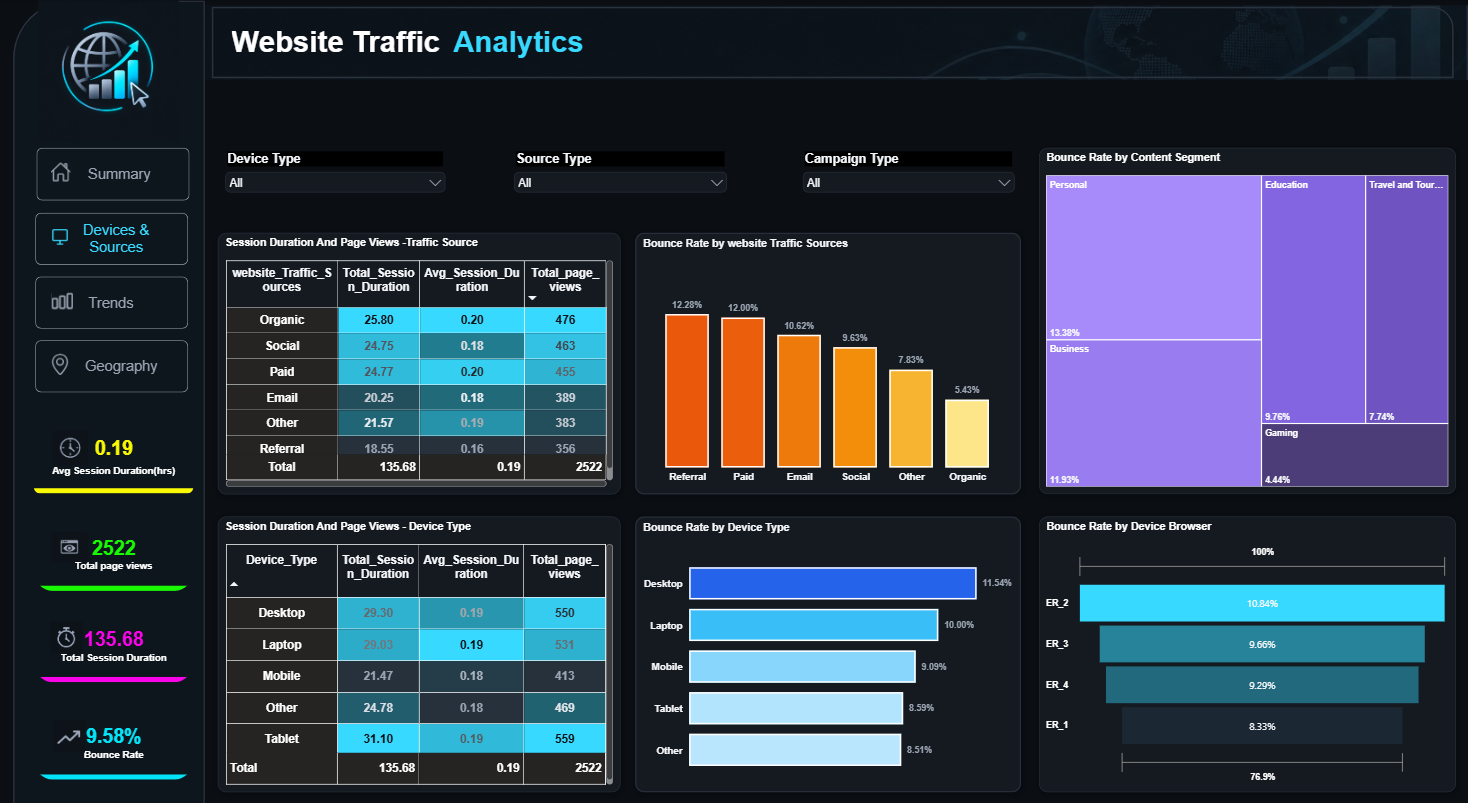

The dashboard page shown, as its layout file describes it:
{"tool":"powerbi","page":{"name":"Website Traffic by Devices & Sources","canvas":[2000,1100],"ordinal":1},"visuals":[{"type":"image","box":[86.6,9.2,1913.2,101.4],"z":0},{"type":"group","id":"g1","title":"Group 3","box":[30,558,251.5,132.3],"z":0,"group":"g6"},{"type":"tableEx","title":"Session Duration And Page Views -Traffic Source","fields":{"Values":["source_lookup.website_Traffic_Sources","#Measures.Total_Session_Duration","#Measures.Avg_Session_Duration","#Measures.Total_page_views"]},"box":[298.1,317.3,548.1,355.8],"z":1000},{"type":"group","id":"g2","title":"Group 4","box":[30,690.3,251.5,132.3],"z":1000,"group":"g6"},{"type":"tableEx","title":"Session Duration And Page Views - Device Type","fields":{"Values":["device_lookup.Device_Type","#Measures.Total_Session_Duration","#Measures.Avg_Session_Duration","#Measures.Total_page_views"]},"box":[298.1,703.8,548.1,375],"z":2000},{"type":"group","id":"g3","title":"Group 5","box":[30,815.3,251.5,132.3],"z":2000,"group":"g6"},{"type":"shape","box":[17.4,0,265.3,1100.4],"z":3000},{"type":"group","id":"g4","title":"Group 6","box":[30,947.5,251.5,132.3],"z":3000,"group":"g6"},{"type":"funnel","title":"Bounce Rate by Device Browser","fields":{"Category":["device_lookup.Device_Browser"],"Y":["#Measures.Bounce_Rate"]},"box":[1415.4,703.8,567.3,375],"z":4000},{"type":"treemap","title":"Bounce Rate by Content Segment","fields":{"Group":["device_lookup.Content_Segment"],"Values":["#Measures.Bounce_Rate"]},"box":[1415.4,201.9,567.3,471.2],"z":5000},{"type":"slicer","fields":{"Values":["device_lookup.Device_Type"]},"box":[298.1,201.9,319.5,71],"z":6000},{"type":"slicer","fields":{"Values":["source_lookup.website_Traffic_Sources"]},"box":[690.4,201.9,310.1,71],"z":7000},{"type":"cardVisual","fields":{"Data":["#Measures.Avg_Session_Duration"]},"box":[30,558,251.5,132.3],"z":7000,"group":"g1"},{"type":"slicer","fields":{"Values":["source_lookup.Campaign"]},"box":[1082.7,201.9,308.3,71],"z":8000},{"type":"shape","box":[282,9.2,352,101.4],"z":9000,"group":"g5"},{"type":"shape","box":[287.5,9.2,1693.9,101.4],"z":9000},{"type":"cardVisual","fields":{"Data":["#Measures.Total_page_views"]},"box":[30,690.3,251.5,132.3],"z":9000,"group":"g2"},{"type":"group","id":"g5","title":"Group 1","box":[282,9.2,540,101.4],"z":10000},{"type":"image","box":[16.6,0,263.6,191.7],"z":11000},{"type":"cardVisual","fields":{"Data":["#Measures.Total_Session_Duration"]},"box":[30,815.3,251.5,132.3],"z":11000,"group":"g3"},{"type":"group","id":"g6","title":"Group 7","box":[30,558,251.5,521.8],"z":13000},{"type":"cardVisual","fields":{"Data":["#Measures.Bounce_Rate"]},"box":[30,947.5,251.5,132.3],"z":13000,"group":"g4"},{"type":"clusteredBarChart","title":"Bounce Rate by Device Type","fields":{"Category":["device_lookup.Device_Type"],"Y":["#Measures.Bounce_Rate"]},"box":[865.4,703.8,525,375],"z":14000},{"type":"clusteredColumnChart","title":"Bounce Rate by website Traffic Sources","fields":{"Category":["source_lookup.website_Traffic_Sources"],"Y":["#Measures.Bounce_Rate"]},"box":[865.4,317.3,525,355.8],"z":15000},{"type":"actionButton","title":"Summary Button","box":[51.6,202.7,208.3,71.9],"z":21000},{"type":"actionButton","title":"Device&Sources Button","box":[49.8,290.5,208,71],"z":22000},{"type":"actionButton","title":"trends Button","box":[49.8,377.4,208,71],"z":23000},{"type":"image","box":[70,981.1,47,44],"z":23000,"group":"g4"},{"type":"actionButton","title":"Geography Button","box":[49.3,464.3,208,71],"z":24000},{"type":"image","box":[68,848,47,44],"z":24000,"group":"g3"},{"type":"image","box":[73,587,47.8,48.9],"z":25000,"group":"g1"},{"type":"image","box":[70,723,49,46],"z":25001,"group":"g2"},{"type":"shape","box":[610.1,9.2,212,101.4],"z":26000,"group":"g5"}]}

Visuals, with their boxes on the page's 2000x1100 design canvas (x1, y1, x2, y2). These are canvas units, not pixel positions in the 1468x803 screenshot, which may show the page scaled, cropped or inside an application window:
image: <box>87,9,2000,111</box>
"Group 3" group: <box>30,558,282,690</box>
"Session Duration And Page Views -Traffic Source" tableEx: <box>298,317,846,673</box>
"Group 4" group: <box>30,690,282,823</box>
"Session Duration And Page Views - Device Type" tableEx: <box>298,704,846,1079</box>
"Group 5" group: <box>30,815,282,948</box>
shape: <box>17,0,283,1100</box>
"Group 6" group: <box>30,948,282,1080</box>
"Bounce Rate by Device Browser" funnel: <box>1415,704,1983,1079</box>
"Bounce Rate by Content Segment" treemap: <box>1415,202,1983,673</box>
slicer - device_lookup.Device_Type: <box>298,202,618,273</box>
slicer - source_lookup.website_Traffic_Sources: <box>690,202,1000,273</box>
cardVisual - #Measures.Avg_Session_Duration: <box>30,558,282,690</box>
slicer - source_lookup.Campaign: <box>1083,202,1391,273</box>
shape: <box>282,9,634,111</box>
shape: <box>288,9,1981,111</box>
cardVisual - #Measures.Total_page_views: <box>30,690,282,823</box>
"Group 1" group: <box>282,9,822,111</box>
image: <box>17,0,280,192</box>
cardVisual - #Measures.Total_Session_Duration: <box>30,815,282,948</box>
"Group 7" group: <box>30,558,282,1080</box>
cardVisual - #Measures.Bounce_Rate: <box>30,948,282,1080</box>
"Bounce Rate by Device Type" clusteredBarChart: <box>865,704,1390,1079</box>
"Bounce Rate by website Traffic Sources" clusteredColumnChart: <box>865,317,1390,673</box>
"Summary Button" actionButton: <box>52,203,260,275</box>
"Device&Sources Button" actionButton: <box>50,290,258,362</box>
"trends Button" actionButton: <box>50,377,258,448</box>
image: <box>70,981,117,1025</box>
"Geography Button" actionButton: <box>49,464,257,535</box>
image: <box>68,848,115,892</box>
image: <box>73,587,121,636</box>
image: <box>70,723,119,769</box>
shape: <box>610,9,822,111</box>
